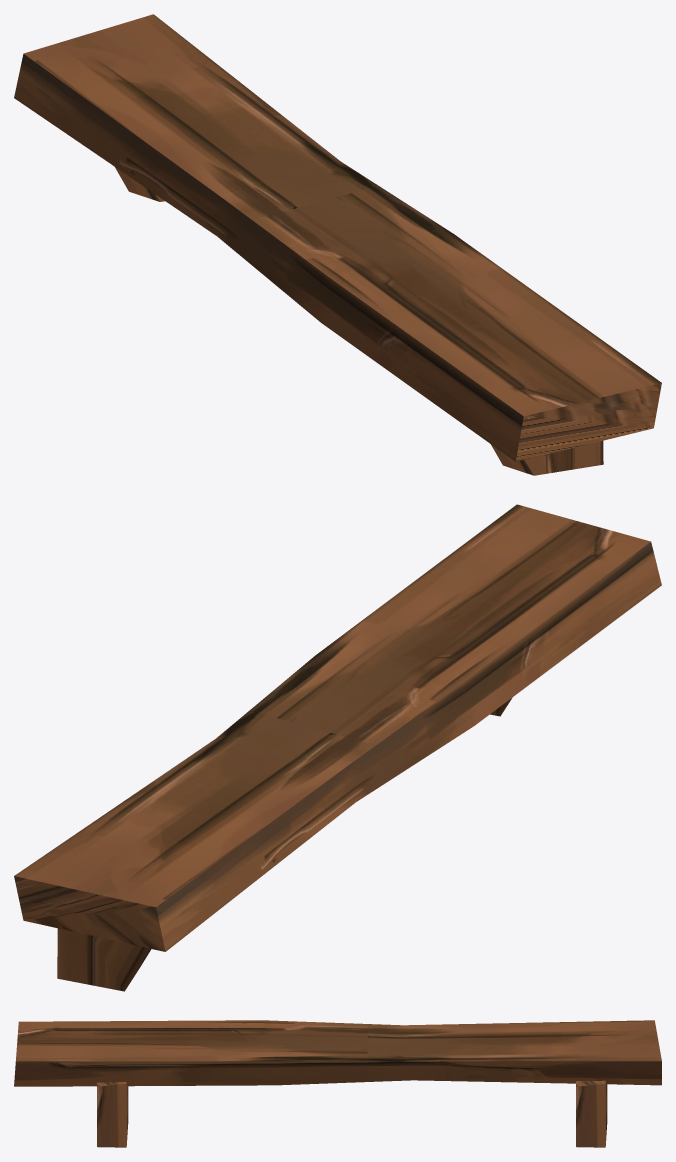
File: Wall_Shelf_1.fbx
3 views of the same model, one above another, from view 1: azimuth 30°, elevation 25°; view 2: azimuth 150°, elevation 25°; view 3: azimuth 270°, elevation 25° (orthographic). The views are drawn at different scales.
Visible parts, largest first — view 1: 1_WallShelf_1; view 2: 1_WallShelf_1; view 3: 1_WallShelf_1.
Boxes of the visible parts, bbox=[...] form: 1_WallShelf_1: bbox=[14, 14, 661, 475]; 1_WallShelf_1: bbox=[14, 504, 661, 991]; 1_WallShelf_1: bbox=[14, 1020, 661, 1147].
Size of the model in its own units: 35.46 by 29.6 by 202.
